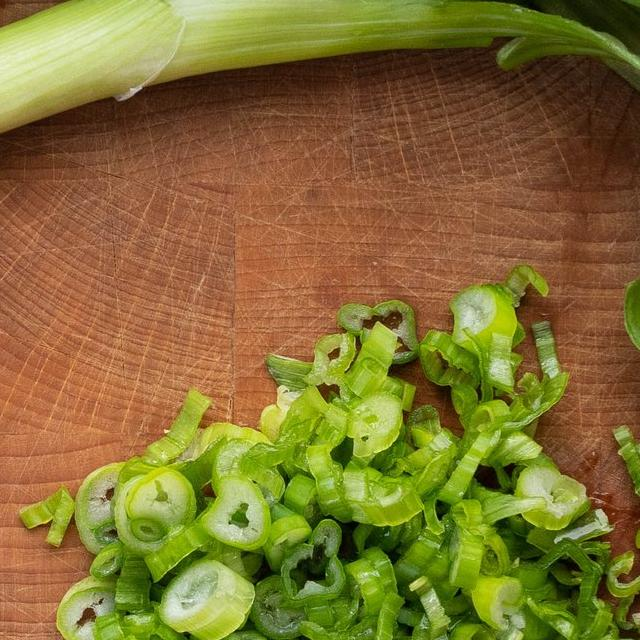green_onion: (22, 267, 640, 640)
